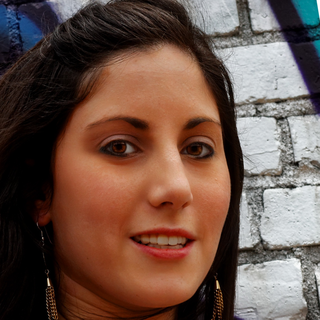eye: (95, 135, 145, 163), (177, 136, 216, 164)
